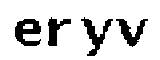e: (11, 17, 43, 51)
r: (46, 14, 75, 49)
v: (116, 16, 151, 49)
y: (77, 15, 114, 59)
